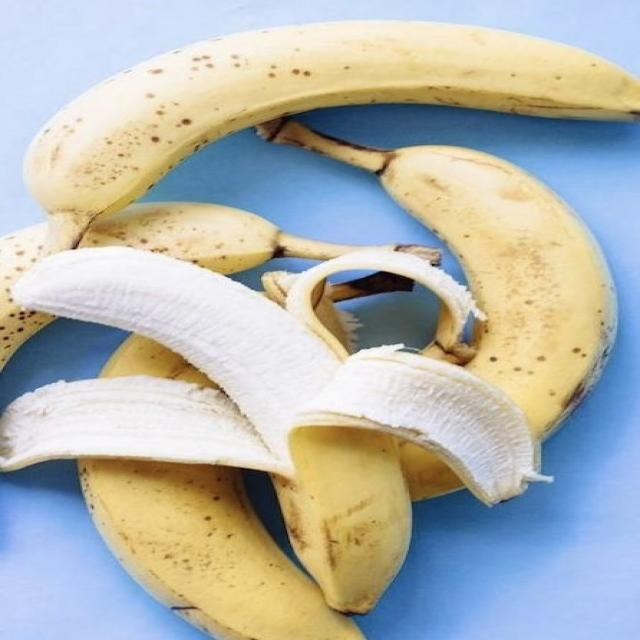banana: (13, 248, 410, 611), (25, 21, 639, 251), (263, 120, 617, 437), (286, 251, 548, 503), (79, 407, 361, 639), (79, 459, 363, 639), (0, 376, 292, 475), (81, 203, 358, 273)
